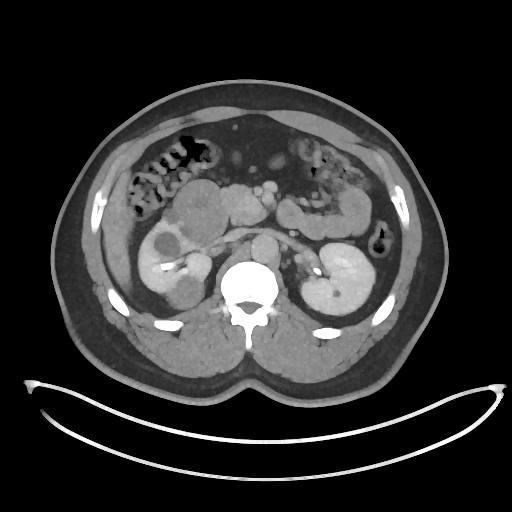Lesion: (169, 177, 232, 247)
